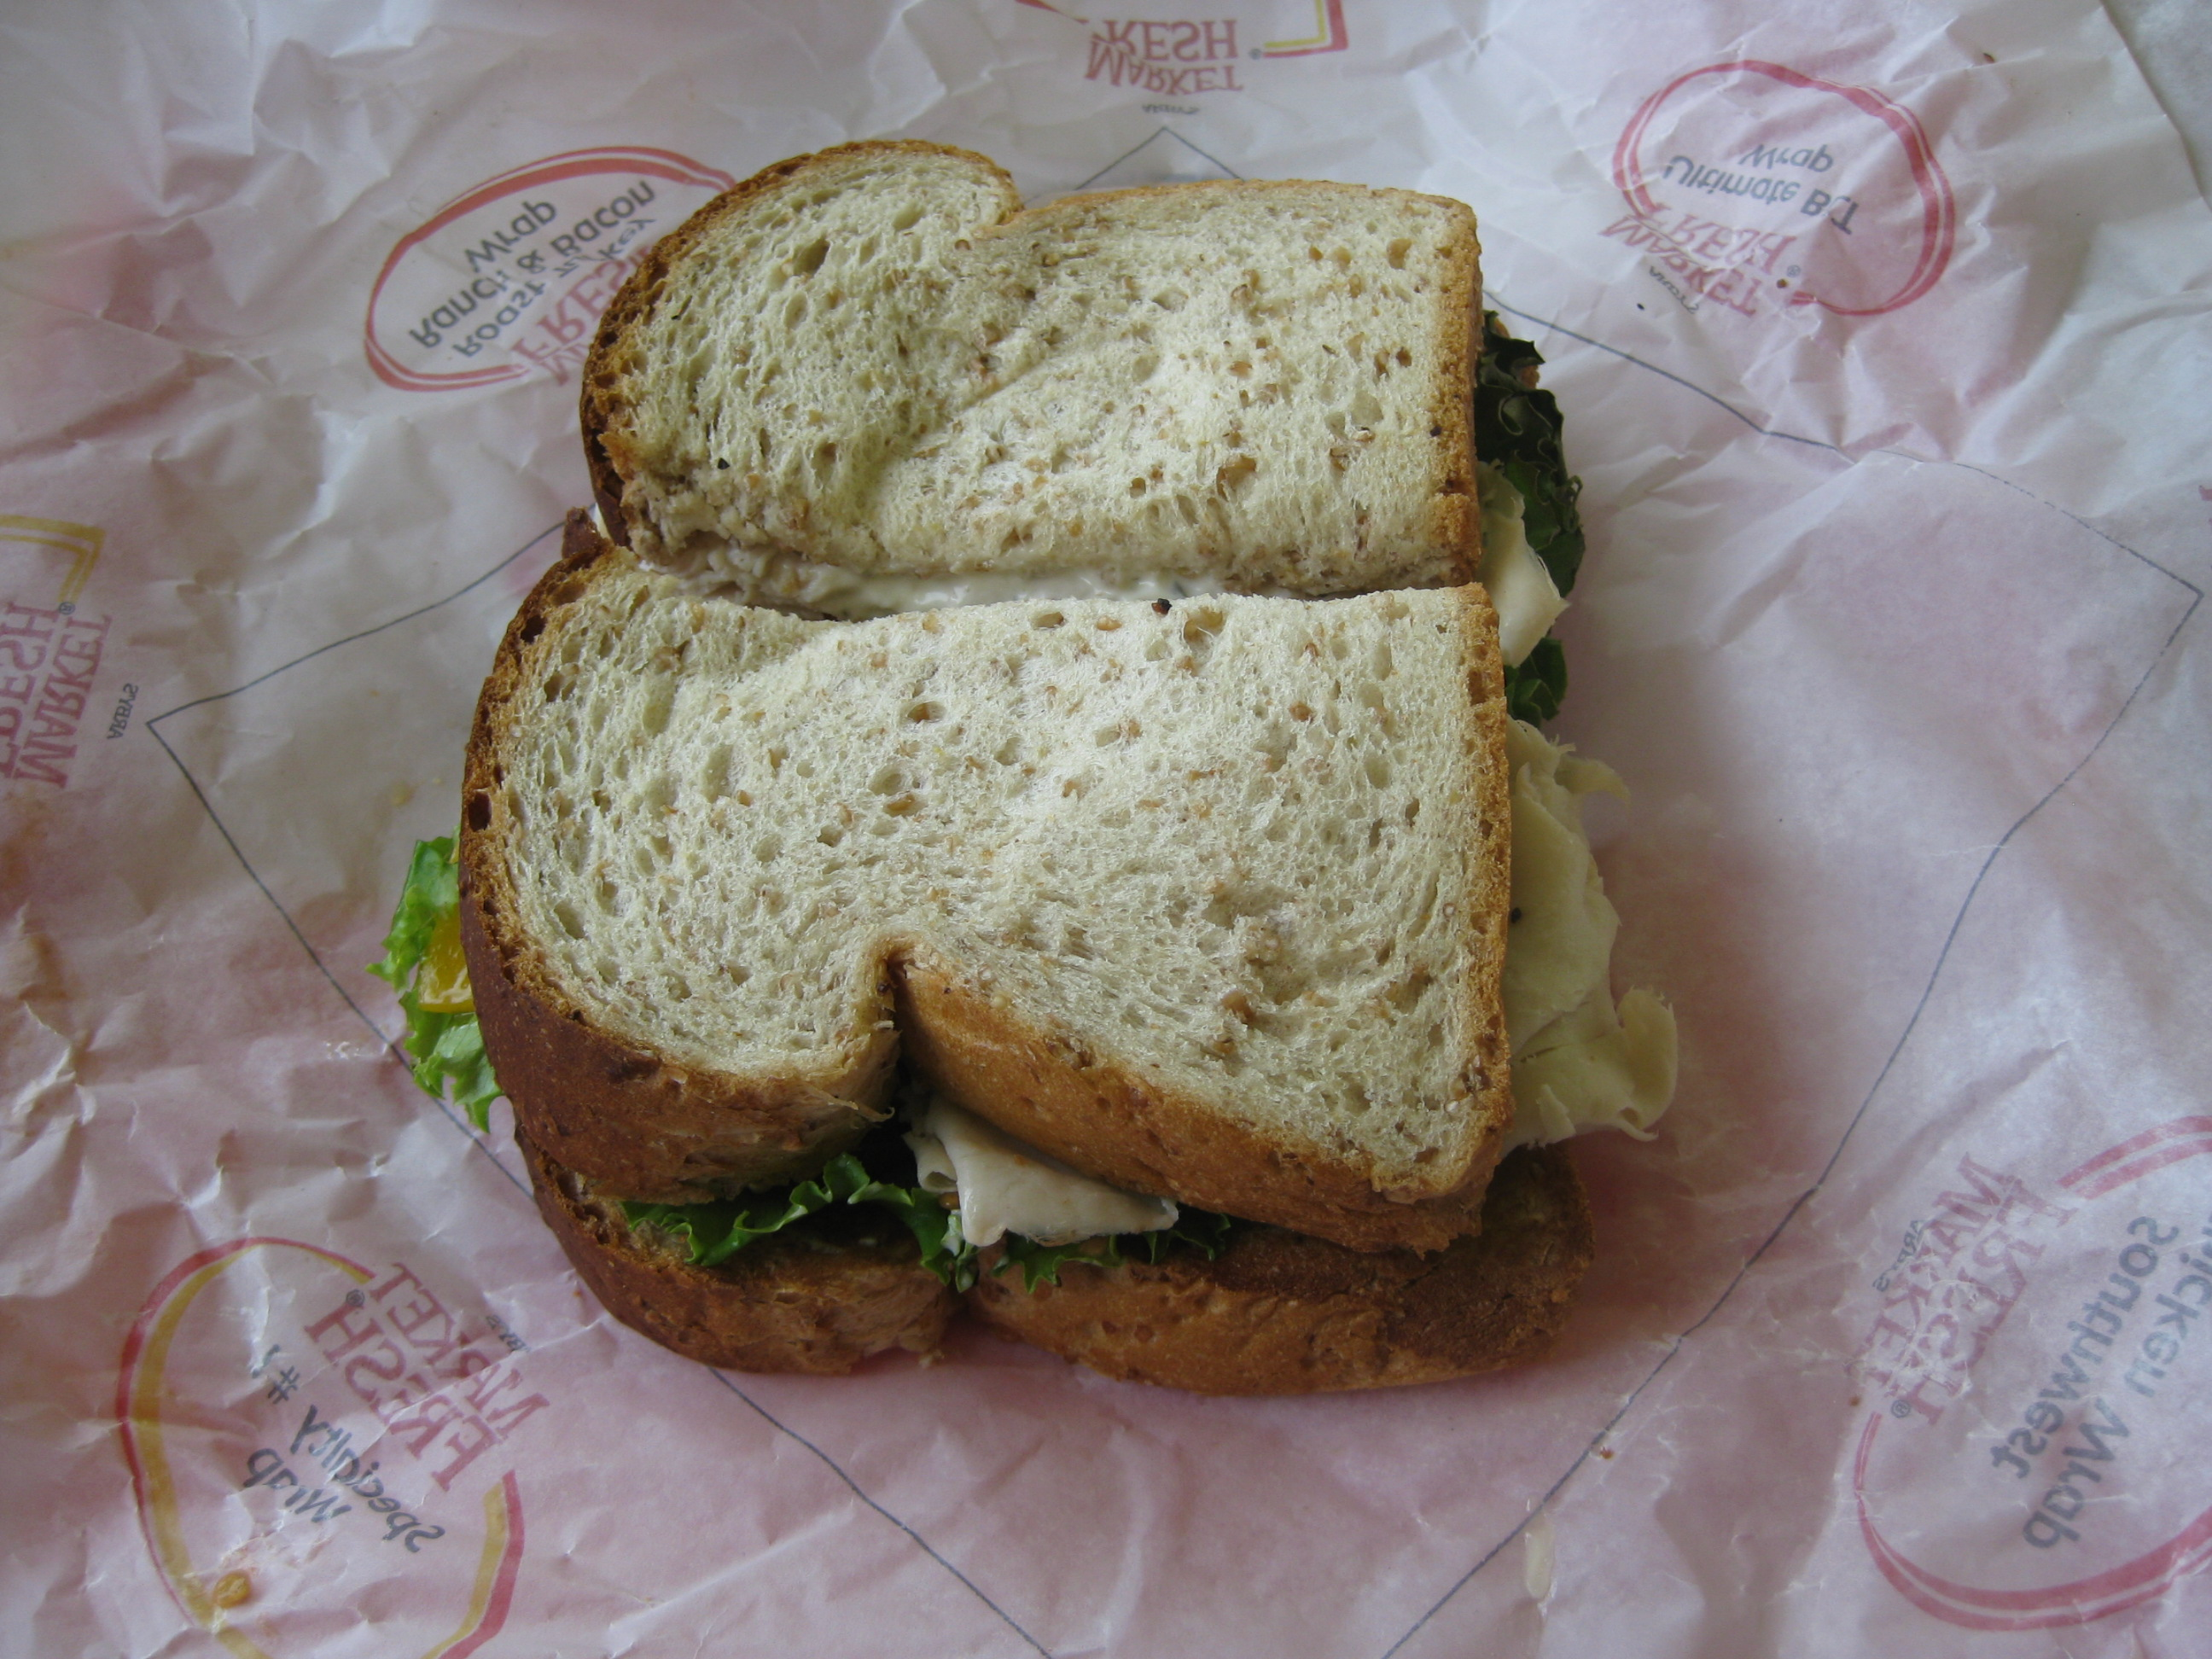sandwich: (405, 74, 1747, 1382)
